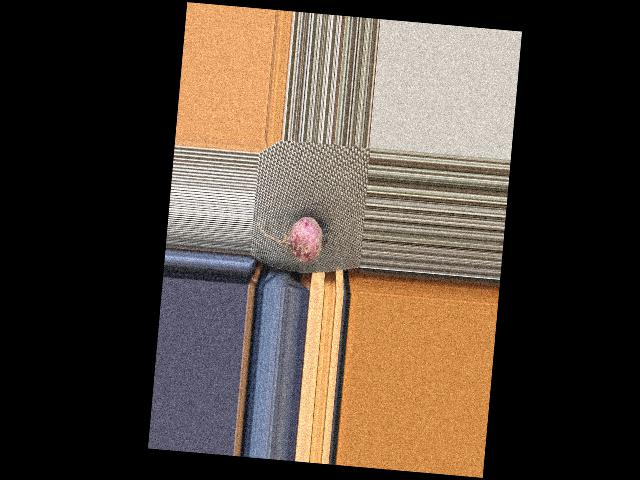beet: (255, 213, 330, 265)
